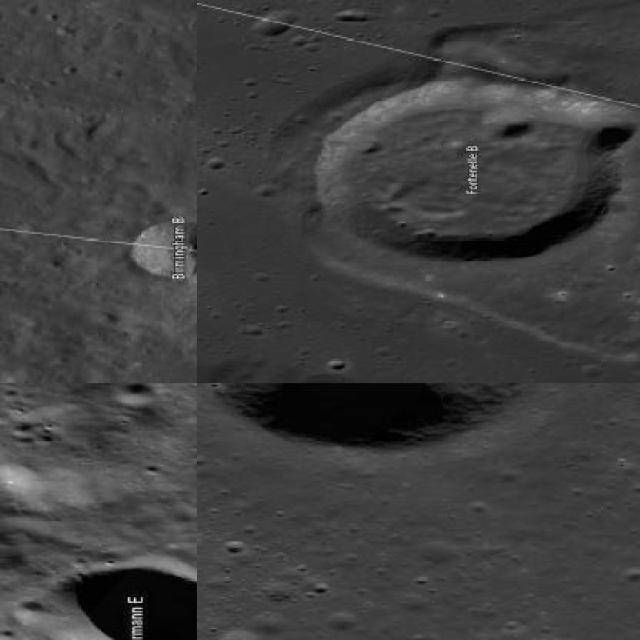crater: (312, 83, 614, 259), (198, 383, 538, 449), (22, 562, 195, 638), (128, 218, 195, 277), (591, 103, 637, 149), (328, 358, 346, 368)
